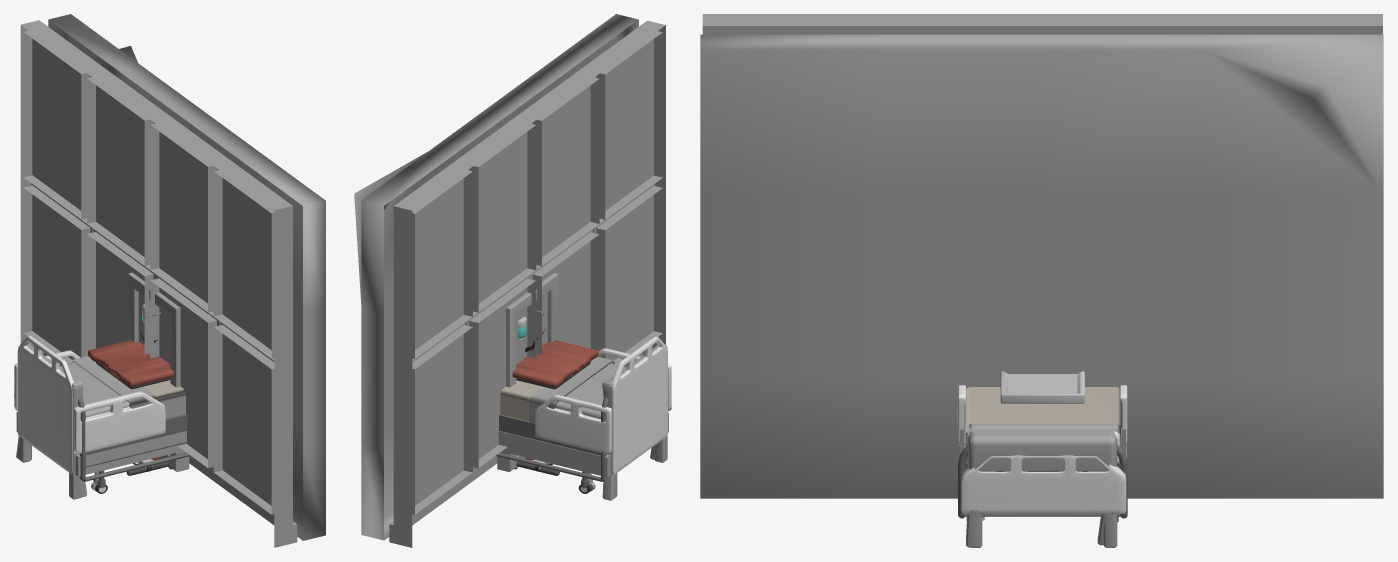
File: PimpleEnvironmentProps.fbx
3 renders of one model, left to right at view 1: azimuth 30°, elevation 25°; view 2: azimuth 150°, elevation 25°; view 3: azimuth 270°, elevation 25°, orthographic. The views are drawn at different scales.
Visible parts, largest first — view 1: RezidenceWall, OldWall, HospitalBedGood, WoodenTable, HospitalBedBad, OldWindow, WoodGood, WoodBad; view 2: RezidenceWall, OldWall, HospitalBedGood, WoodenTable, OldWindow, HospitalBedBad, WoodGood, WoodBad; view 3: OldWall, RezidenceWall, HospitalBedGood, WoodBad, Table, HospitalBedBad.
Part boxes in pixels (bbox=[...]): RezidenceWall: bbox=[20, 20, 297, 547]; OldWall: bbox=[48, 14, 325, 540]; HospitalBedGood: bbox=[14, 335, 186, 491]; WoodenTable: bbox=[88, 340, 173, 475]; HospitalBedBad: bbox=[72, 362, 190, 493]; OldWindow: bbox=[128, 272, 189, 471]; WoodGood: bbox=[18, 363, 130, 499]; WoodBad: bbox=[16, 343, 87, 497]; RezidenceWall: bbox=[389, 20, 665, 547]; OldWall: bbox=[354, 14, 638, 540]; HospitalBedGood: bbox=[498, 336, 671, 490]; WoodenTable: bbox=[512, 340, 598, 475]; OldWindow: bbox=[497, 273, 557, 472]; HospitalBedBad: bbox=[496, 362, 614, 493]; WoodGood: bbox=[556, 347, 667, 498]; WoodBad: bbox=[602, 344, 667, 500]; OldWall: bbox=[700, 34, 1383, 498]; RezidenceWall: bbox=[702, 14, 1382, 34]; HospitalBedGood: bbox=[957, 385, 1127, 520]; WoodBad: bbox=[966, 431, 1116, 547]; Table: bbox=[1000, 371, 1084, 403]; HospitalBedBad: bbox=[958, 403, 1127, 522].
Bounding box in the file's own units: 12.11 × 17.43 × 23.4.
